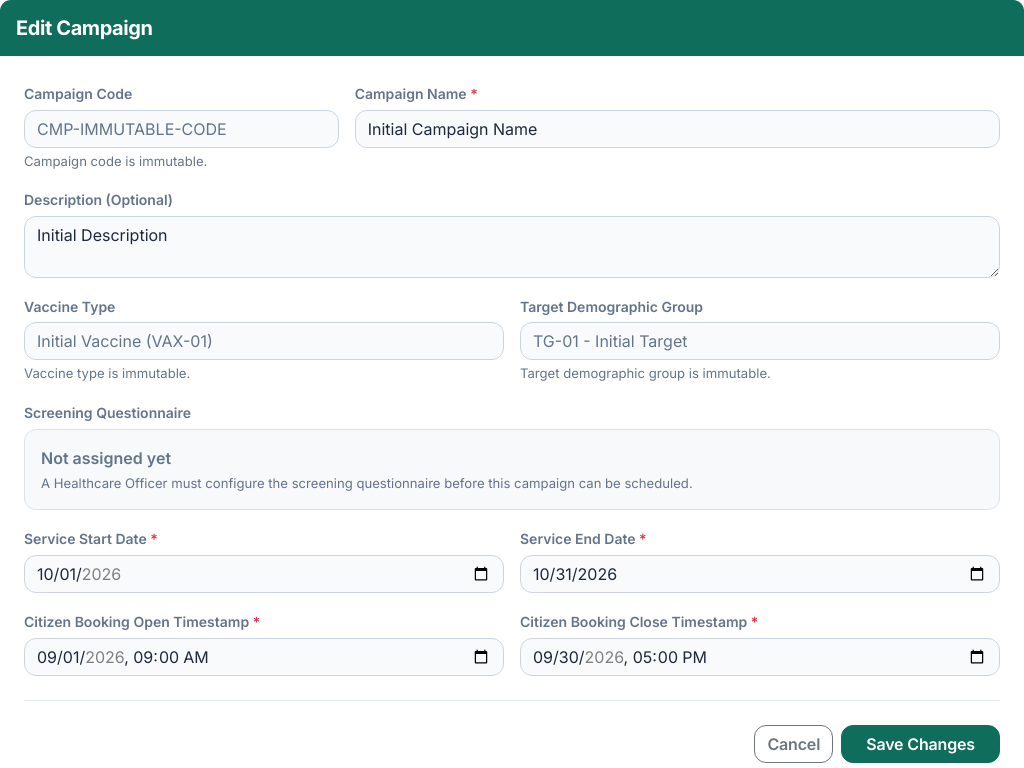
Test: CampaignForm — Create and Edit Modes › clears inline validation error as user corrects the invalid value
The image size is (1024, 768).
Type "2026-09-01" into the date field labelled "Service End Date *" at (760,574), box left=520, top=555, right=1000, bottom=593
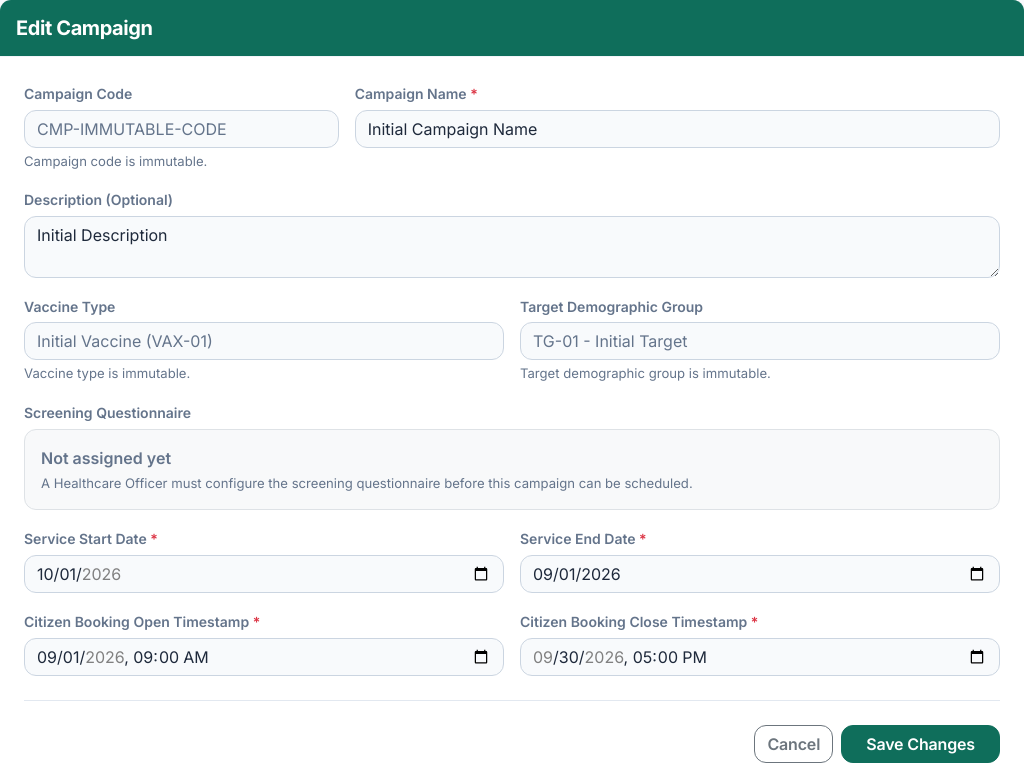
Click the button "Save Changes" at (921,744), box left=841, top=725, right=1000, bottom=763
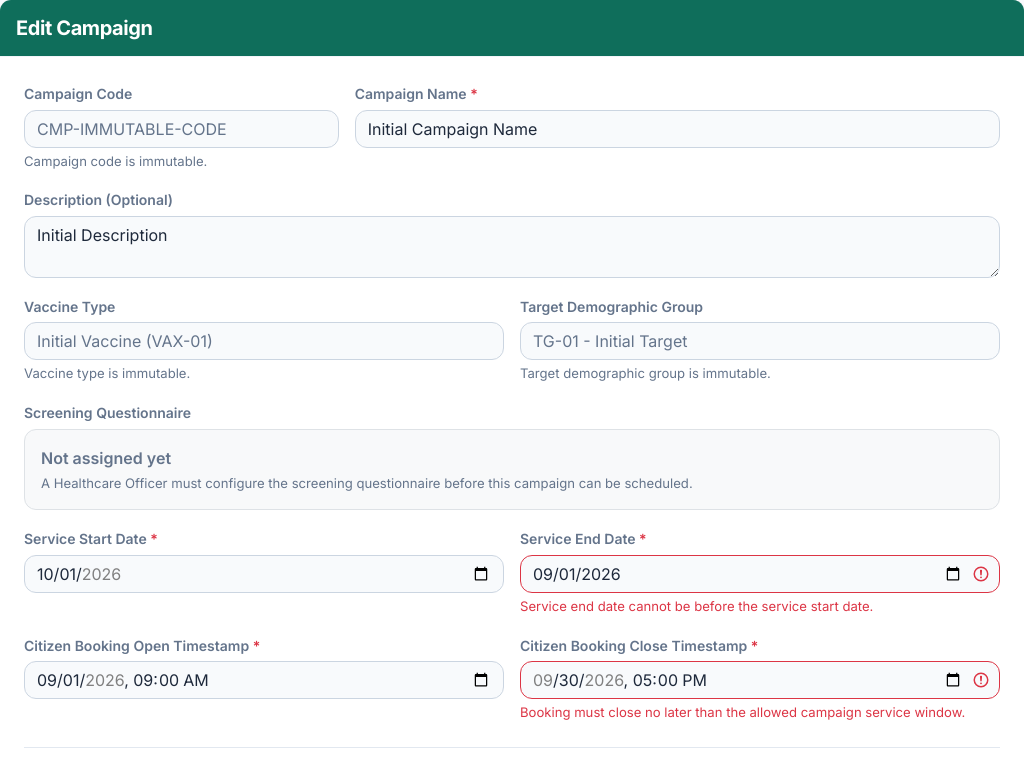
expect the text "Service end date cannot be before the service start date." is shown: met, box left=520, top=598, right=873, bottom=614
# User corrects value
Type "2026-11-15" into the date field labelled "Service End Date *" at (760,574), box left=520, top=555, right=1000, bottom=593
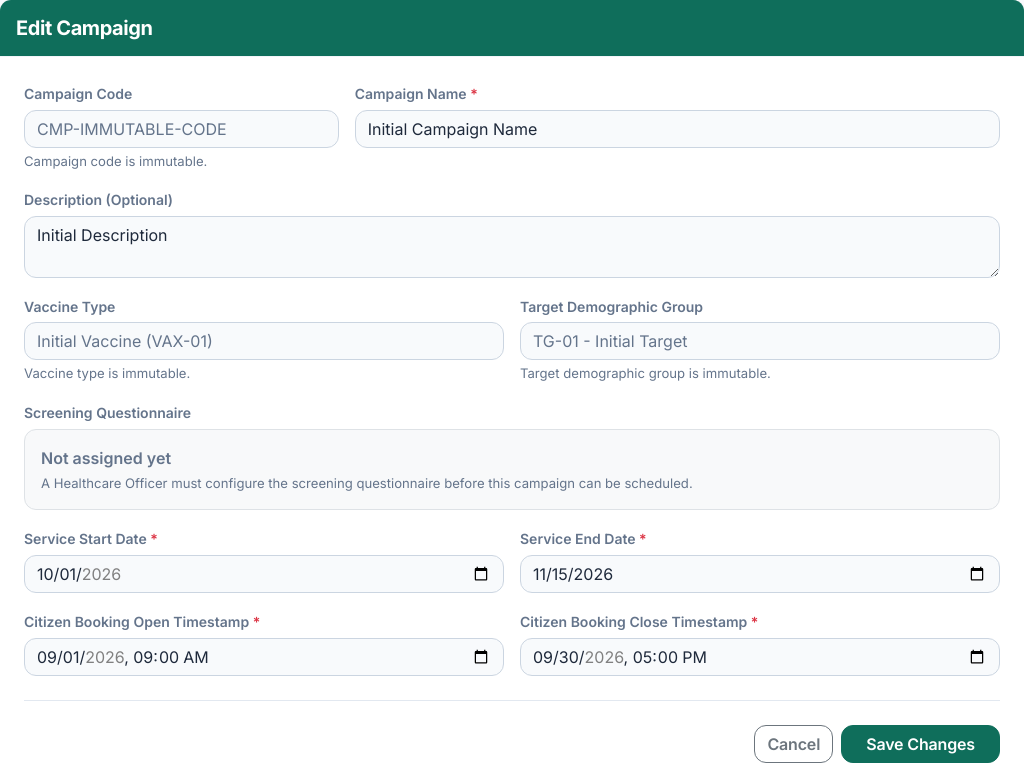
expect the text "Service end date cannot be before the service start date." is gone: met
